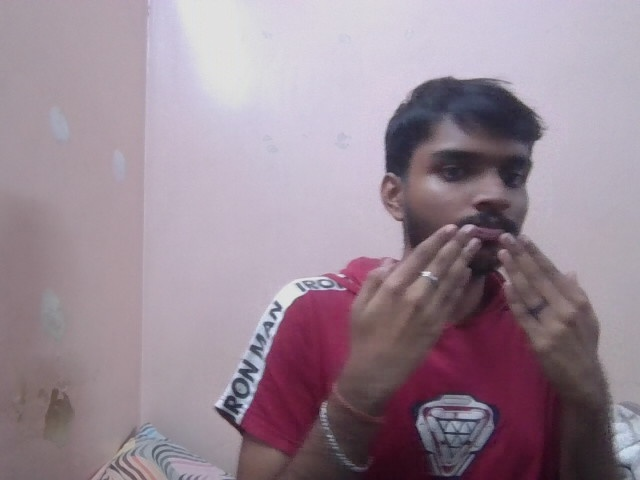Thank You: (347, 224, 611, 384)
